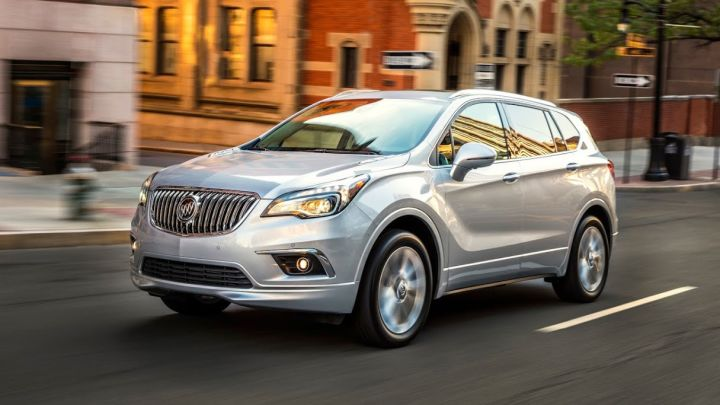car: (116, 64, 631, 371)
